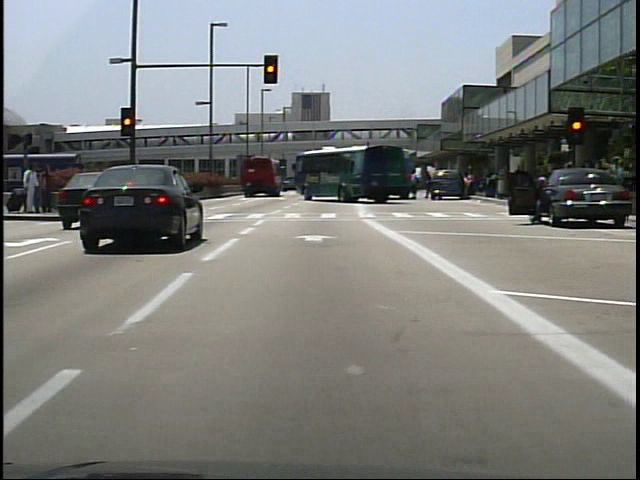person: (526, 171, 554, 226), (21, 162, 42, 216), (36, 162, 54, 221), (404, 168, 418, 201), (460, 169, 471, 199)
